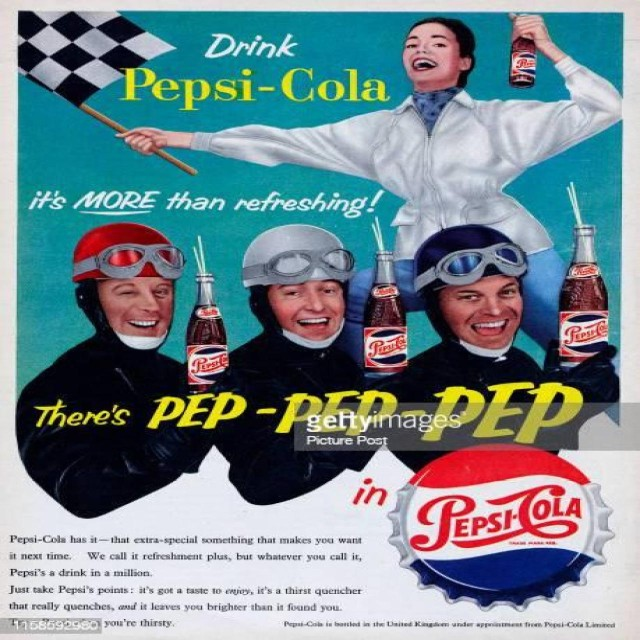pepsi: (400, 443, 598, 599)
